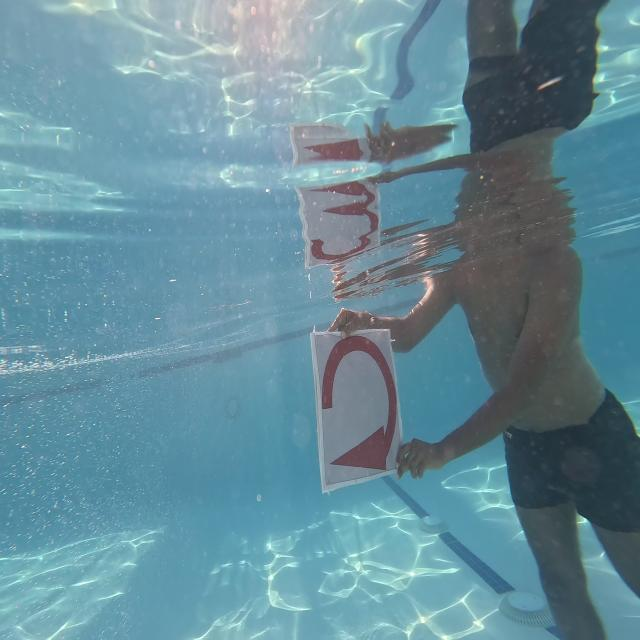red_side: (312, 323, 405, 486)
